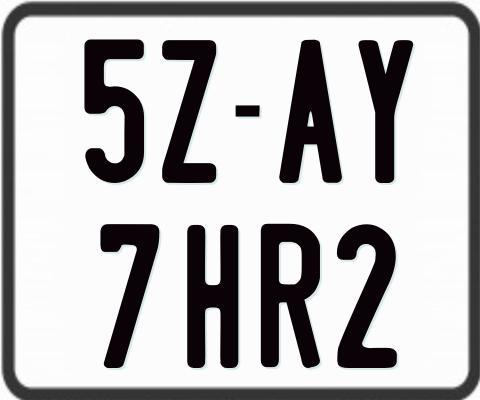2: (336, 221, 401, 366)
5: (84, 37, 150, 182)
7: (97, 223, 160, 373)
A: (278, 40, 343, 189)
H: (187, 223, 240, 372)
R: (261, 224, 326, 369)
Y: (357, 38, 416, 183)
Z: (161, 37, 218, 186)
